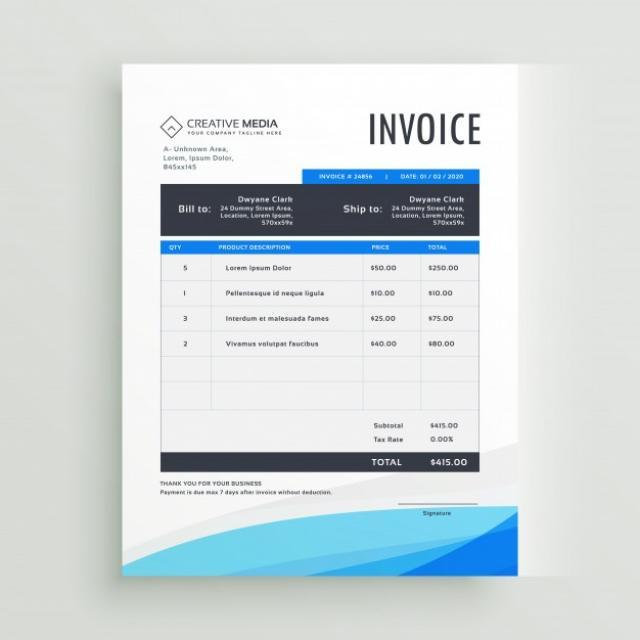customer_address: (217, 206, 294, 227), (390, 206, 467, 226)
customer_name: (406, 192, 466, 204), (234, 196, 298, 203)
invoice_date: (419, 171, 466, 181)
invoice_number: (345, 172, 377, 181)
invoice_subtotal: (425, 415, 472, 432)
invoice_total: (421, 454, 476, 472)
item_description: (217, 257, 334, 358)
item_quantity: (171, 260, 197, 356)
item_total_price: (423, 260, 462, 352)
item_unit_price: (362, 258, 405, 354)
supplier_address: (160, 143, 237, 174)
supplier_name: (184, 113, 284, 138)
tax_rate: (426, 432, 467, 448)
